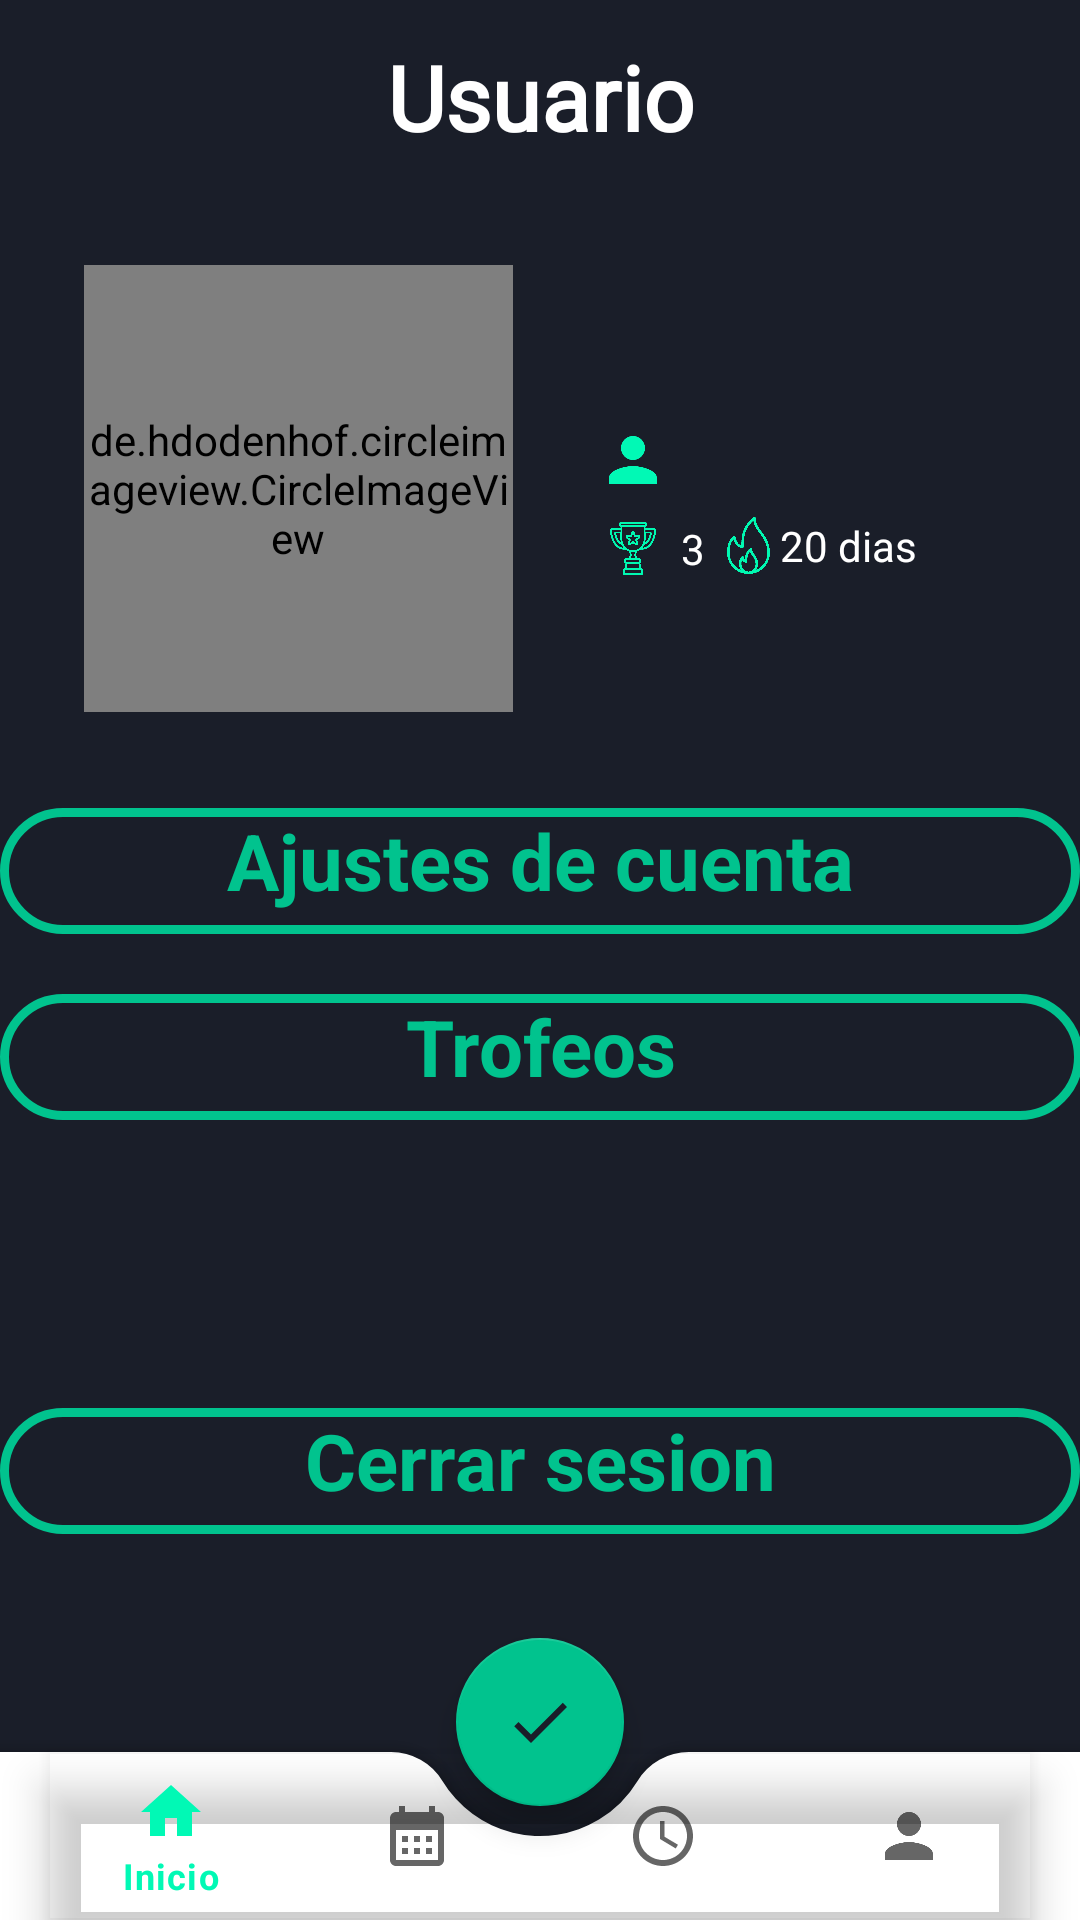

Named icons in this screenshot (1080*1920) and their centers, (x=x, y=y):
check: (x=540, y=1752)
fuego: (x=748, y=545)
person: (x=633, y=460)
trofeo: (x=633, y=548)
